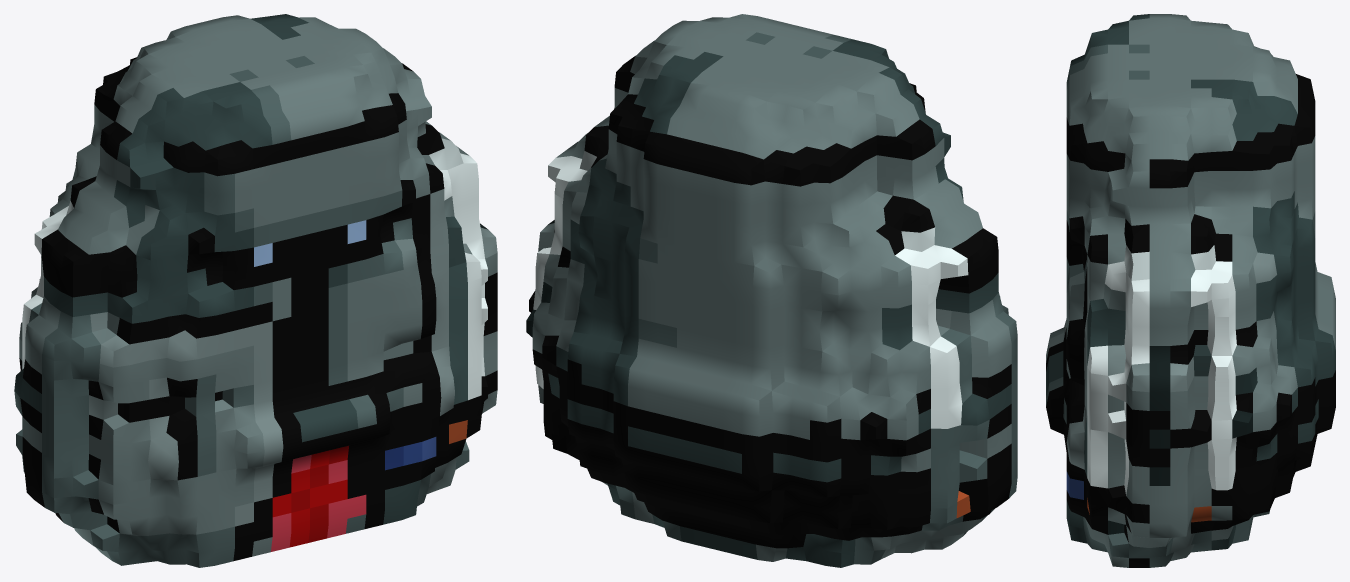
The model's file is Icon_737_02.obj.
The picture shows the model from 3 angles, left to right: view 1: azimuth 30°, elevation 25°; view 2: azimuth 150°, elevation 25°; view 3: azimuth 270°, elevation 25°; orthographic projection. The views are drawn at different scales.
Size of the model in its own units: 2.4 by 2.3 by 1.4.
1 material, 1 textured.
